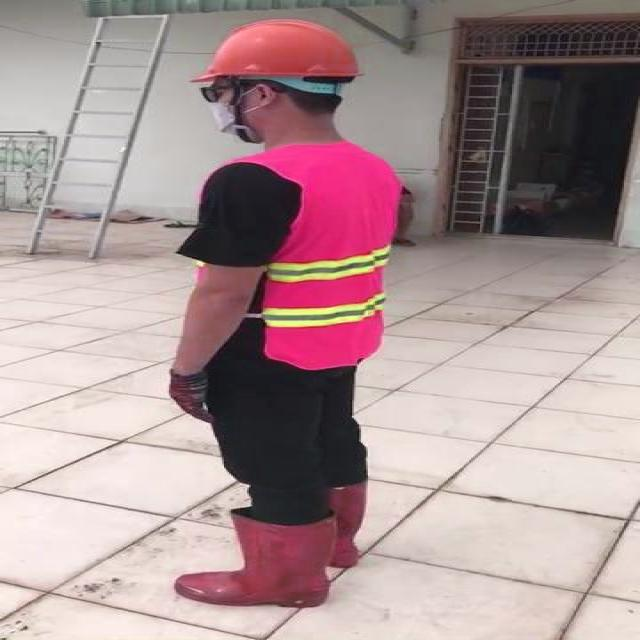boots: (174, 512, 338, 608), (276, 480, 368, 570)
face_mask: (188, 77, 271, 140)
hand_glove: (169, 369, 210, 424)
head_helmet: (198, 13, 358, 82)
person: (122, 15, 412, 608)
vest: (236, 141, 402, 371)
